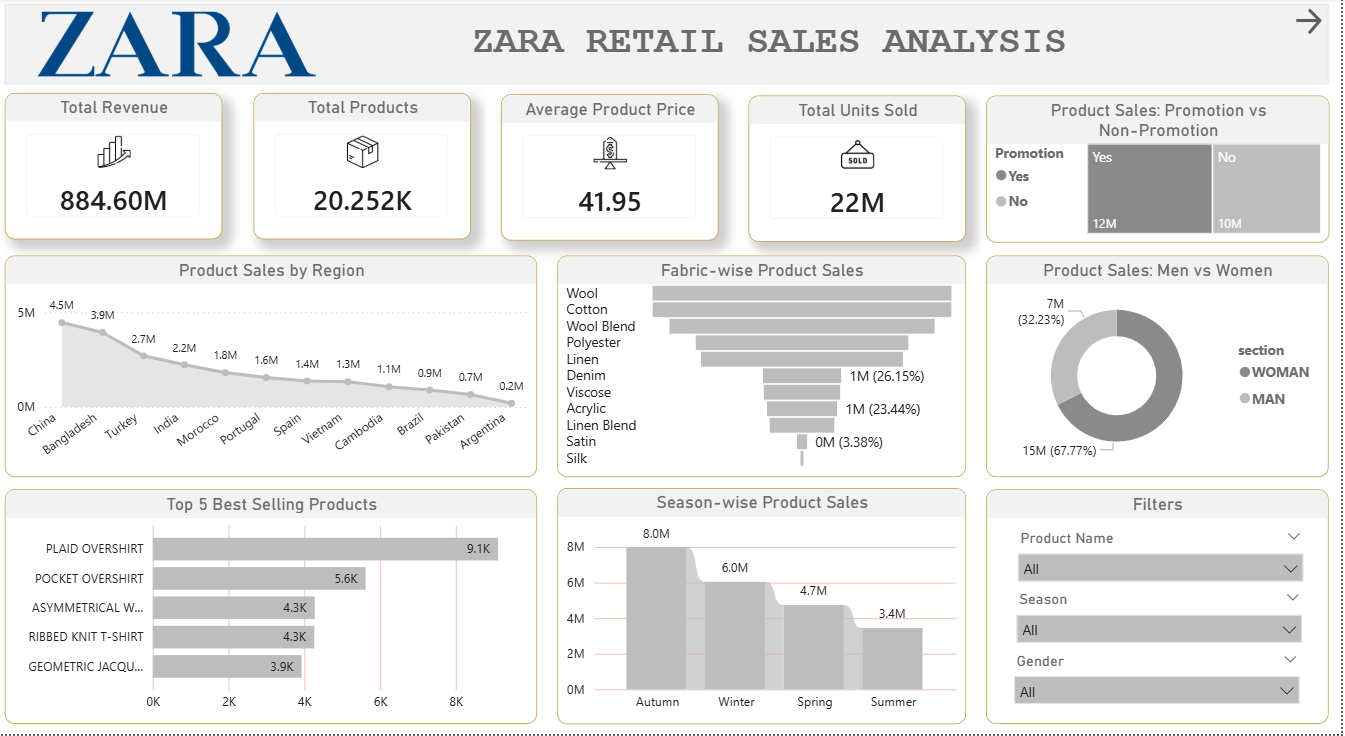

Layout of this report page (visuals, bound fields, positions):
{"tool":"powerbi","page":{"name":"Zara Retail Sales Analysis","canvas":[1320,720],"ordinal":0},"visuals":[{"type":"shape","box":[13.5,6.1,1295,78.3],"z":0},{"type":"textbox","box":[406,17.1,710.5,52.6],"z":1000},{"type":"image","box":[0,13.5,363.2,63.6],"z":2000},{"type":"cardVisual","title":"Total Revenue","fields":{"Data":["Sum(Zara_sales_EDA.Total Sale)"]},"box":[13.5,92.9,212.8,143.1],"z":3000},{"type":"cardVisual","title":"Total Products","fields":{"Data":["CountNonNull(Zara_sales_EDA.Product ID)"]},"box":[256.8,92.9,212.8,143.1],"z":4000},{"type":"cardVisual","title":"Average Product Price","fields":{"Data":["Avg(Zara_sales_EDA.price)"]},"box":[498.9,94.2,212.8,143.1],"z":5000},{"type":"cardVisual","title":"Total Units Sold","fields":{"Data":["Sum(Zara_sales_EDA.Sales Volume)"]},"box":[741,95.4,212.8,143.1],"z":6000},{"type":"treemap","title":"Product Sales: Promotion vs Non-Promotion","fields":{"Group":["Zara_sales_EDA.Promotion"],"Values":["Sum(Zara_sales_EDA.Sales Volume)"]},"box":[973.4,95.4,336.3,144.3],"z":7000},{"type":"donutChart","title":"Product Sales: Men vs Women","fields":{"Category":["Zara_sales_EDA.section"],"Y":["Sum(Zara_sales_EDA.Sales Volume)"]},"box":[973.4,251.9,335.1,216.4],"z":8000},{"type":"barChart","title":"Top 5 Best Selling Products","fields":{"Category":["Zara_sales_EDA.name"],"Y":["Sum(Zara_sales_EDA.Sales Volume)"]},"box":[13.5,480.6,520.9,229.9],"z":9000},{"type":"columnChart","title":"Season-wise Product Sales","fields":{"Category":["Zara_sales_EDA.season"],"Y":["Sum(Zara_sales_EDA.Sales Volume)"]},"box":[553.9,479.4,399.9,231.1],"z":10000},{"type":"textbox","title":"Filters","box":[973.4,480.6,335.1,229.9],"z":11000},{"type":"slicer","fields":{"Values":["Zara_sales_EDA.name"]},"box":[994.2,514.8,299.6,59.9],"z":12000},{"type":"slicer","fields":{"Values":["Zara_sales_EDA.season"]},"box":[992.9,574.7,299.6,59.9],"z":13000},{"type":"slicer","fields":{"Values":["Zara_sales_EDA.section"]},"box":[990.5,634.7,299.6,59.9],"z":14000},{"type":"actionButton","box":[1268.1,2.4,45.2,40.4],"z":15000},{"type":"funnel","title":"Fabric-wise Product Sales","fields":{"Category":["Zara_sales_EDA.material"],"Y":["Sum(Zara_sales_EDA.Sales Volume)"]},"box":[553.9,251.9,399.9,216.4],"z":16000},{"type":"areaChart","title":"Product Sales by Region","fields":{"Category":["Zara_sales_EDA.origin"],"Y":["Sum(Zara_sales_EDA.Sales Volume)"]},"box":[13.5,251.9,520.9,216.4],"z":17000}]}

Visuals, with their boxes in screenshot pixels (x1, y1, x2, y2), scaled from the page's 1320x720 canvas onto the 1345x736 screenshot:
shape: <region>14, 6, 1333, 86</region>
textbox: <region>414, 17, 1138, 71</region>
image: <region>0, 14, 370, 79</region>
"Total Revenue" cardVisual: <region>14, 95, 231, 241</region>
"Total Products" cardVisual: <region>262, 95, 478, 241</region>
"Average Product Price" cardVisual: <region>508, 96, 725, 243</region>
"Total Units Sold" cardVisual: <region>755, 98, 972, 244</region>
"Product Sales: Promotion vs Non-Promotion" treemap: <region>992, 98, 1335, 245</region>
"Product Sales: Men vs Women" donutChart: <region>992, 257, 1333, 479</region>
"Top 5 Best Selling Products" barChart: <region>14, 491, 545, 726</region>
"Season-wise Product Sales" columnChart: <region>564, 490, 972, 726</region>
"Filters" textbox: <region>992, 491, 1333, 726</region>
slicer - Zara_sales_EDA.name: <region>1013, 526, 1318, 587</region>
slicer - Zara_sales_EDA.season: <region>1012, 587, 1317, 649</region>
slicer - Zara_sales_EDA.section: <region>1009, 649, 1315, 710</region>
actionButton: <region>1292, 2, 1338, 44</region>
"Fabric-wise Product Sales" funnel: <region>564, 257, 972, 479</region>
"Product Sales by Region" areaChart: <region>14, 257, 545, 479</region>
